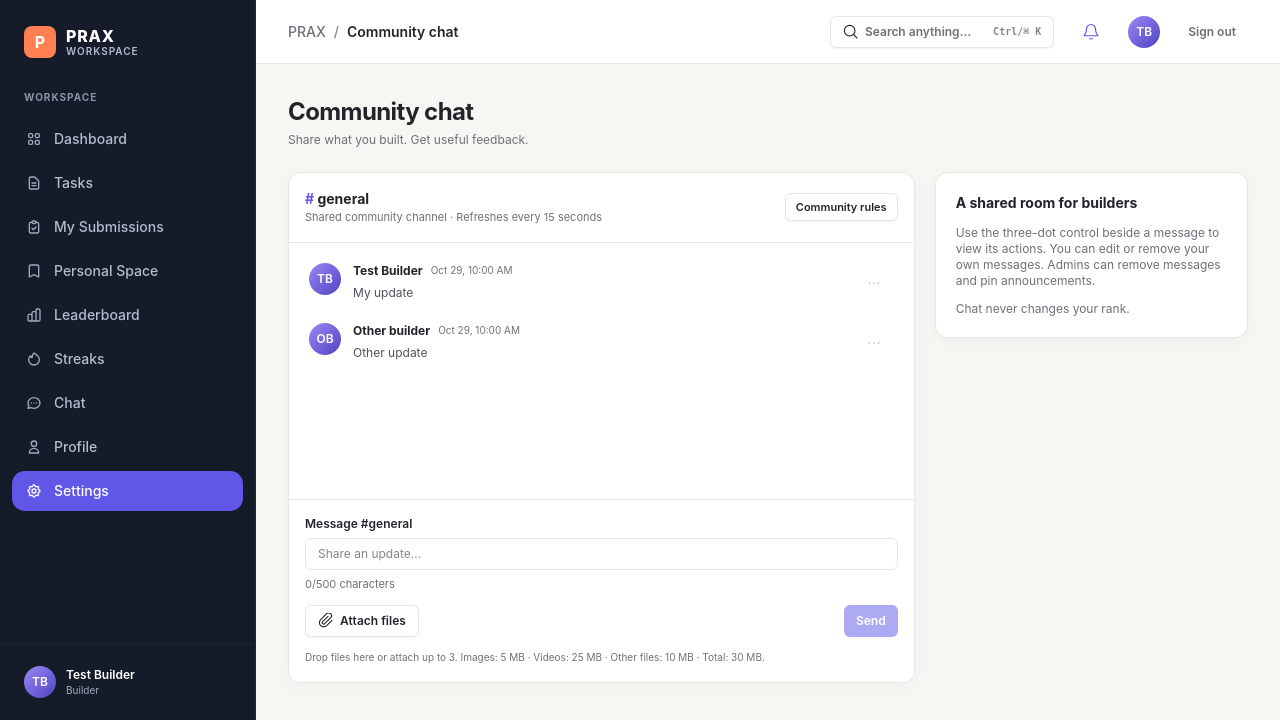
functional member controls › edits own chat messages through three dots and disables foreign edits
Click the button named "Message actions for Test Builder": (874, 282) [854,262,894,302]
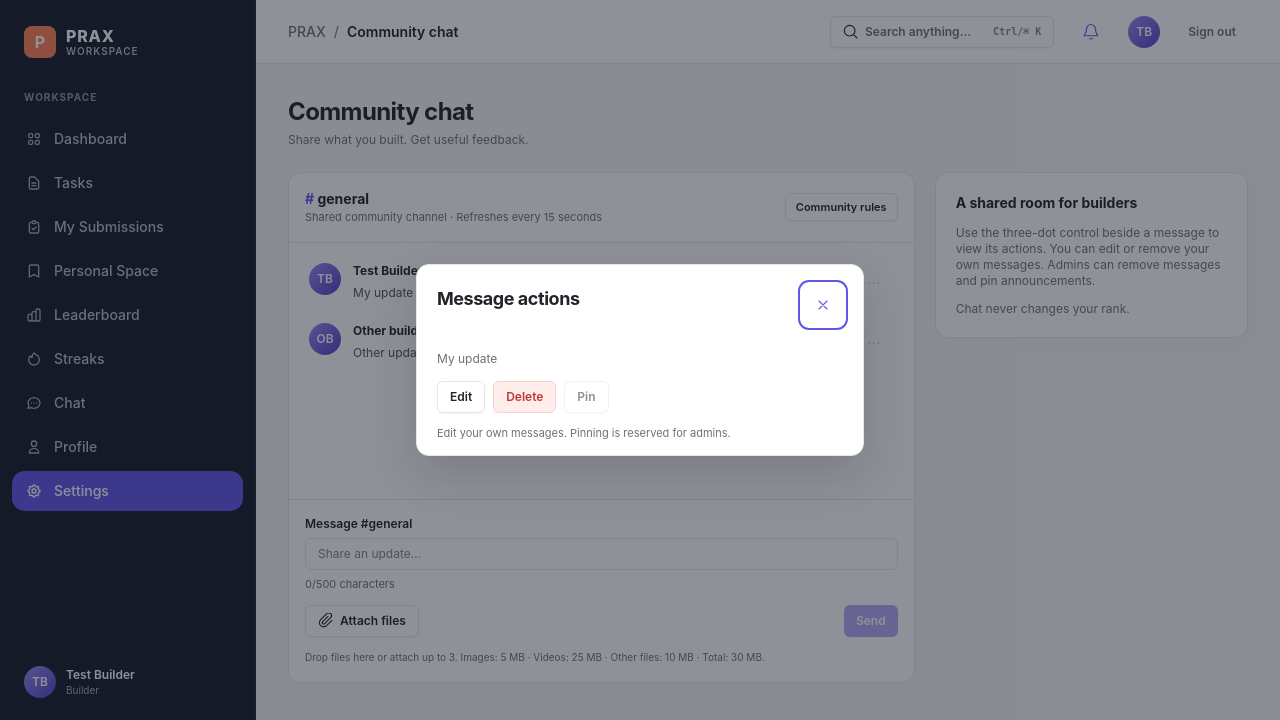
Click the button "Edit": (461, 397) [437,381,485,413]
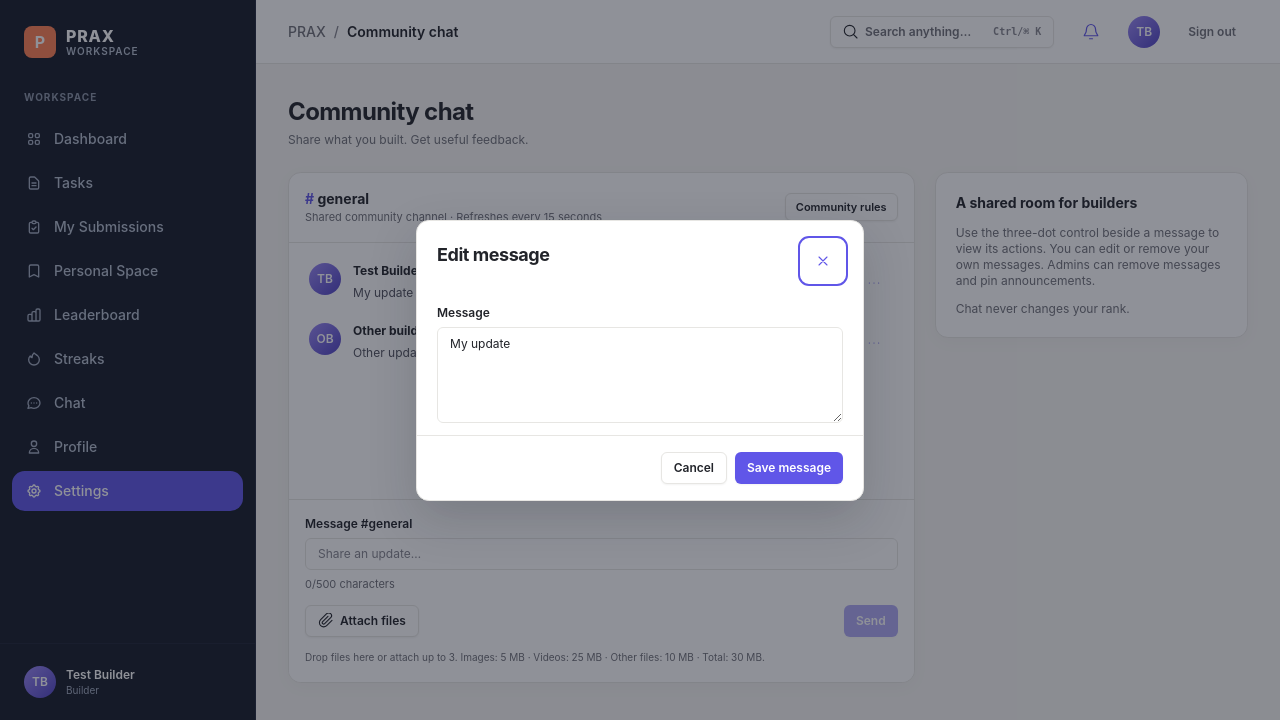
Replace the text in the text box labelled "Message" with "Revised update": (640, 374) [437,326,843,422]
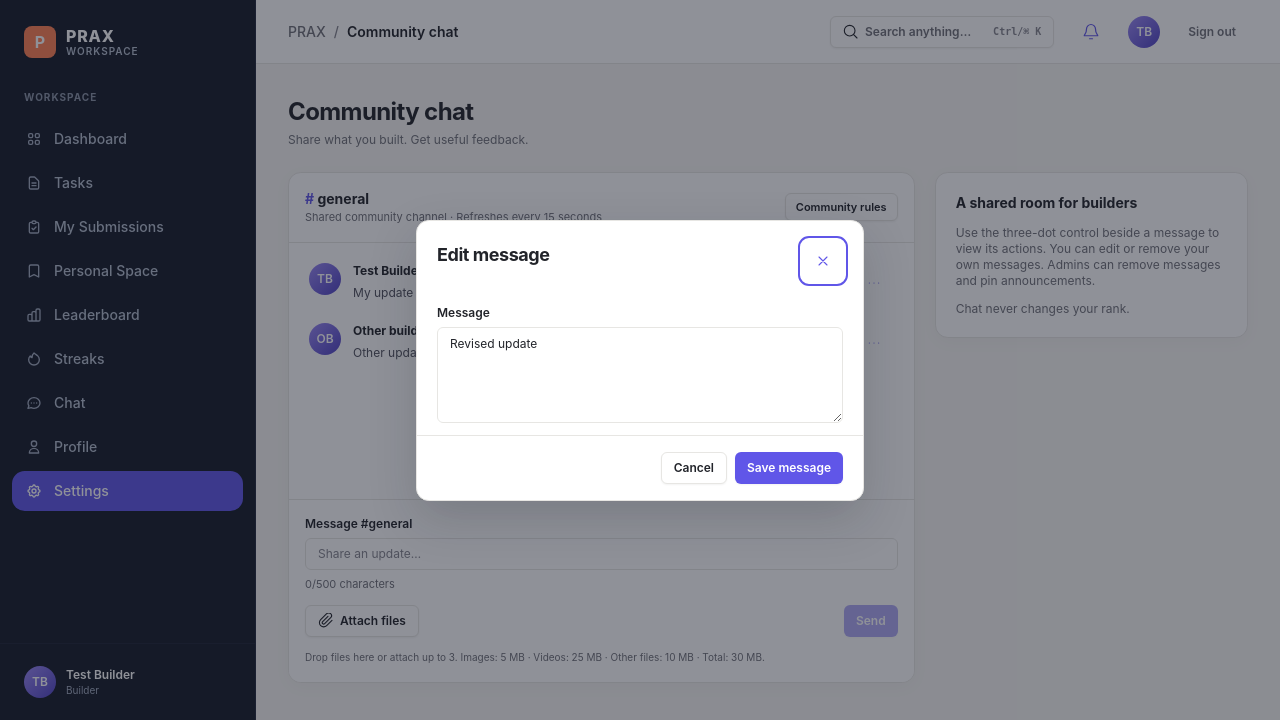
Click the button "Save message": (789, 468) [735,452,843,484]
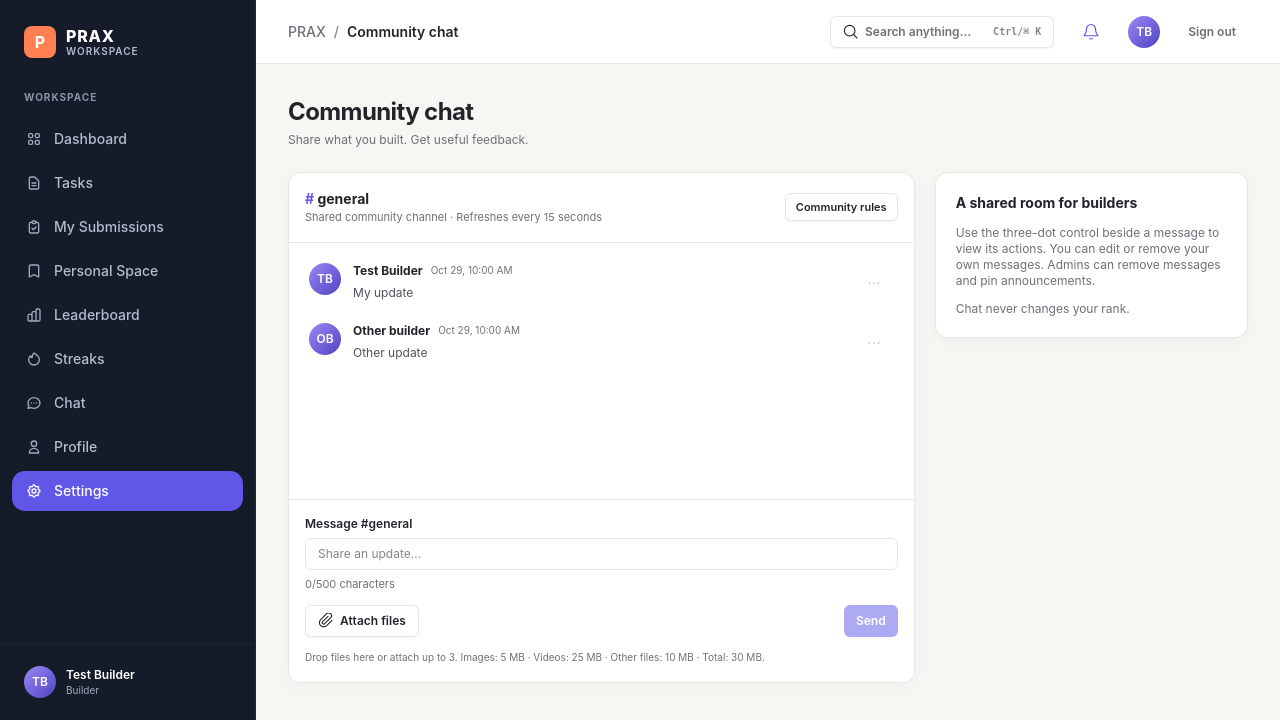
Now the dialog is gone
Click the button named "Message actions for Other builder": (874, 342) [854,322,894,362]
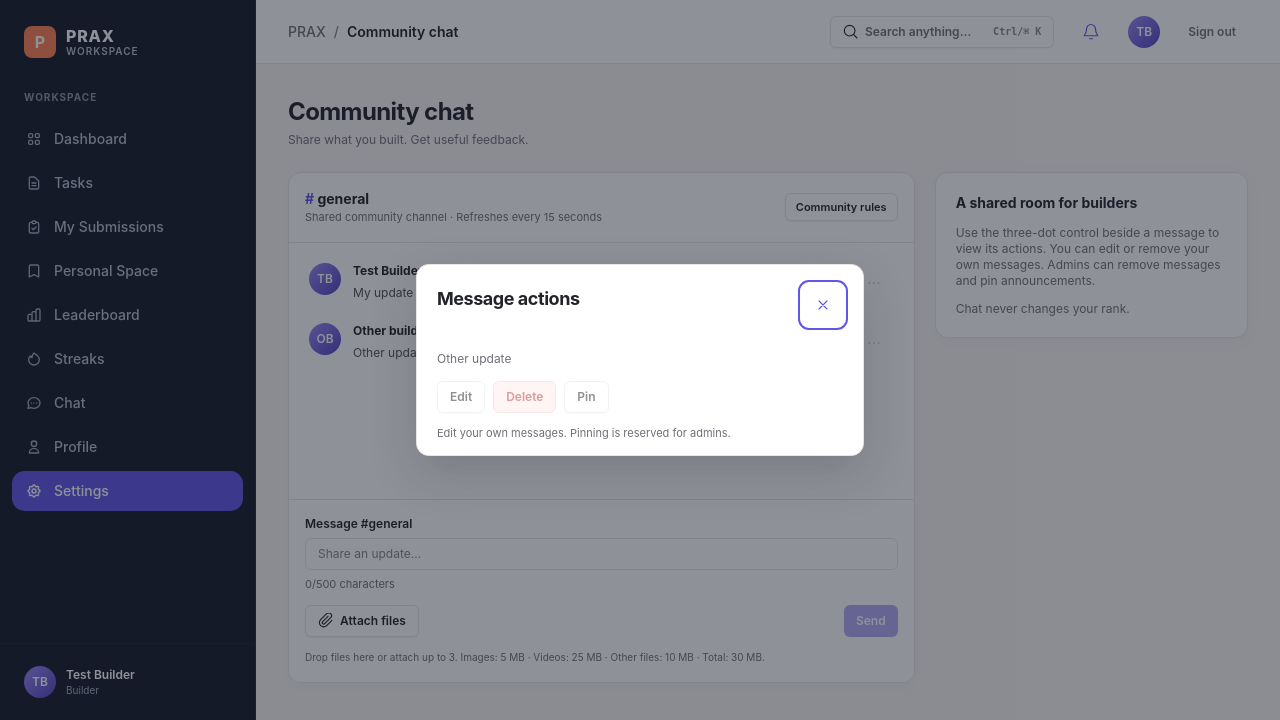
Now the button "Edit" is disabled, box [437,381,485,413]
Now the button "Pin" is disabled, box [564,381,609,413]
